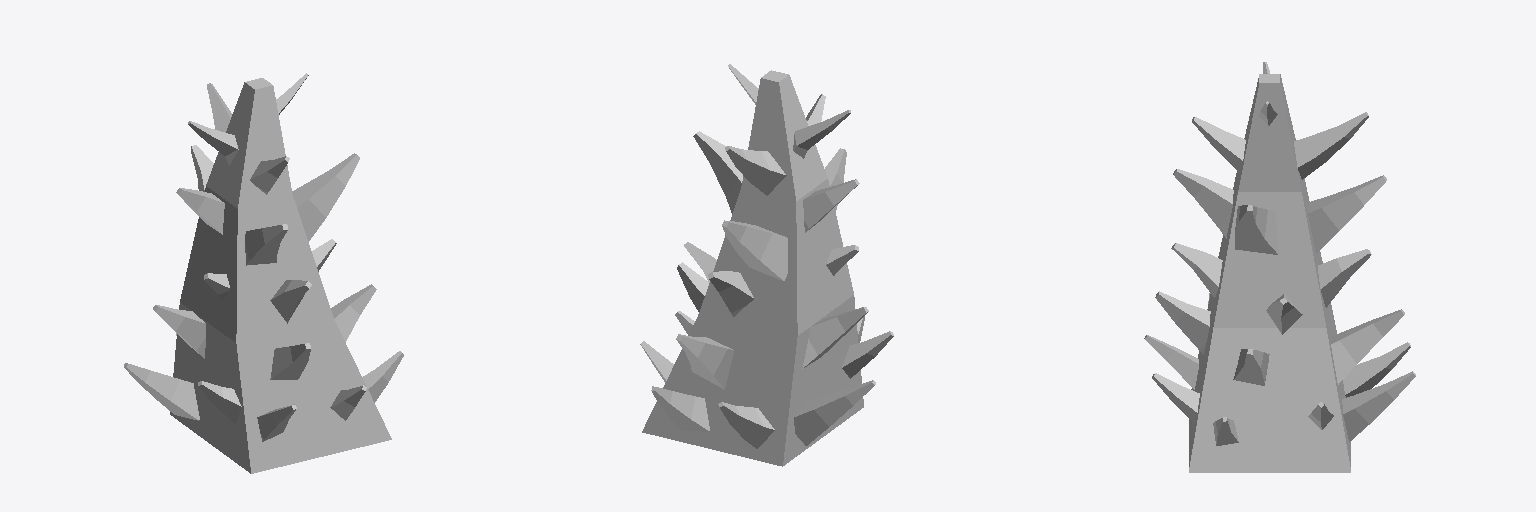
Rendered from ApikeTake2.obj.
The picture shows the model from 3 angles: view 1: azimuth 30°, elevation 25°; view 2: azimuth 150°, elevation 25°; view 3: azimuth 270°, elevation 25°; orthographic projection.
Parts seen in each view (by area): view 1: group2_pCube12; view 2: group2_pCube12; view 3: group2_pCube12.
Part boxes in pixels (x1,y1,x2,y2): group2_pCube12: (124, 73, 403, 473); group2_pCube12: (640, 64, 893, 466); group2_pCube12: (1144, 62, 1415, 472).
Bounding box in the file's own units: 755 × 1064 × 741.